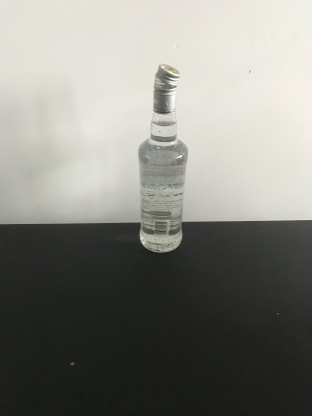nakretka: (151, 62, 181, 115)
